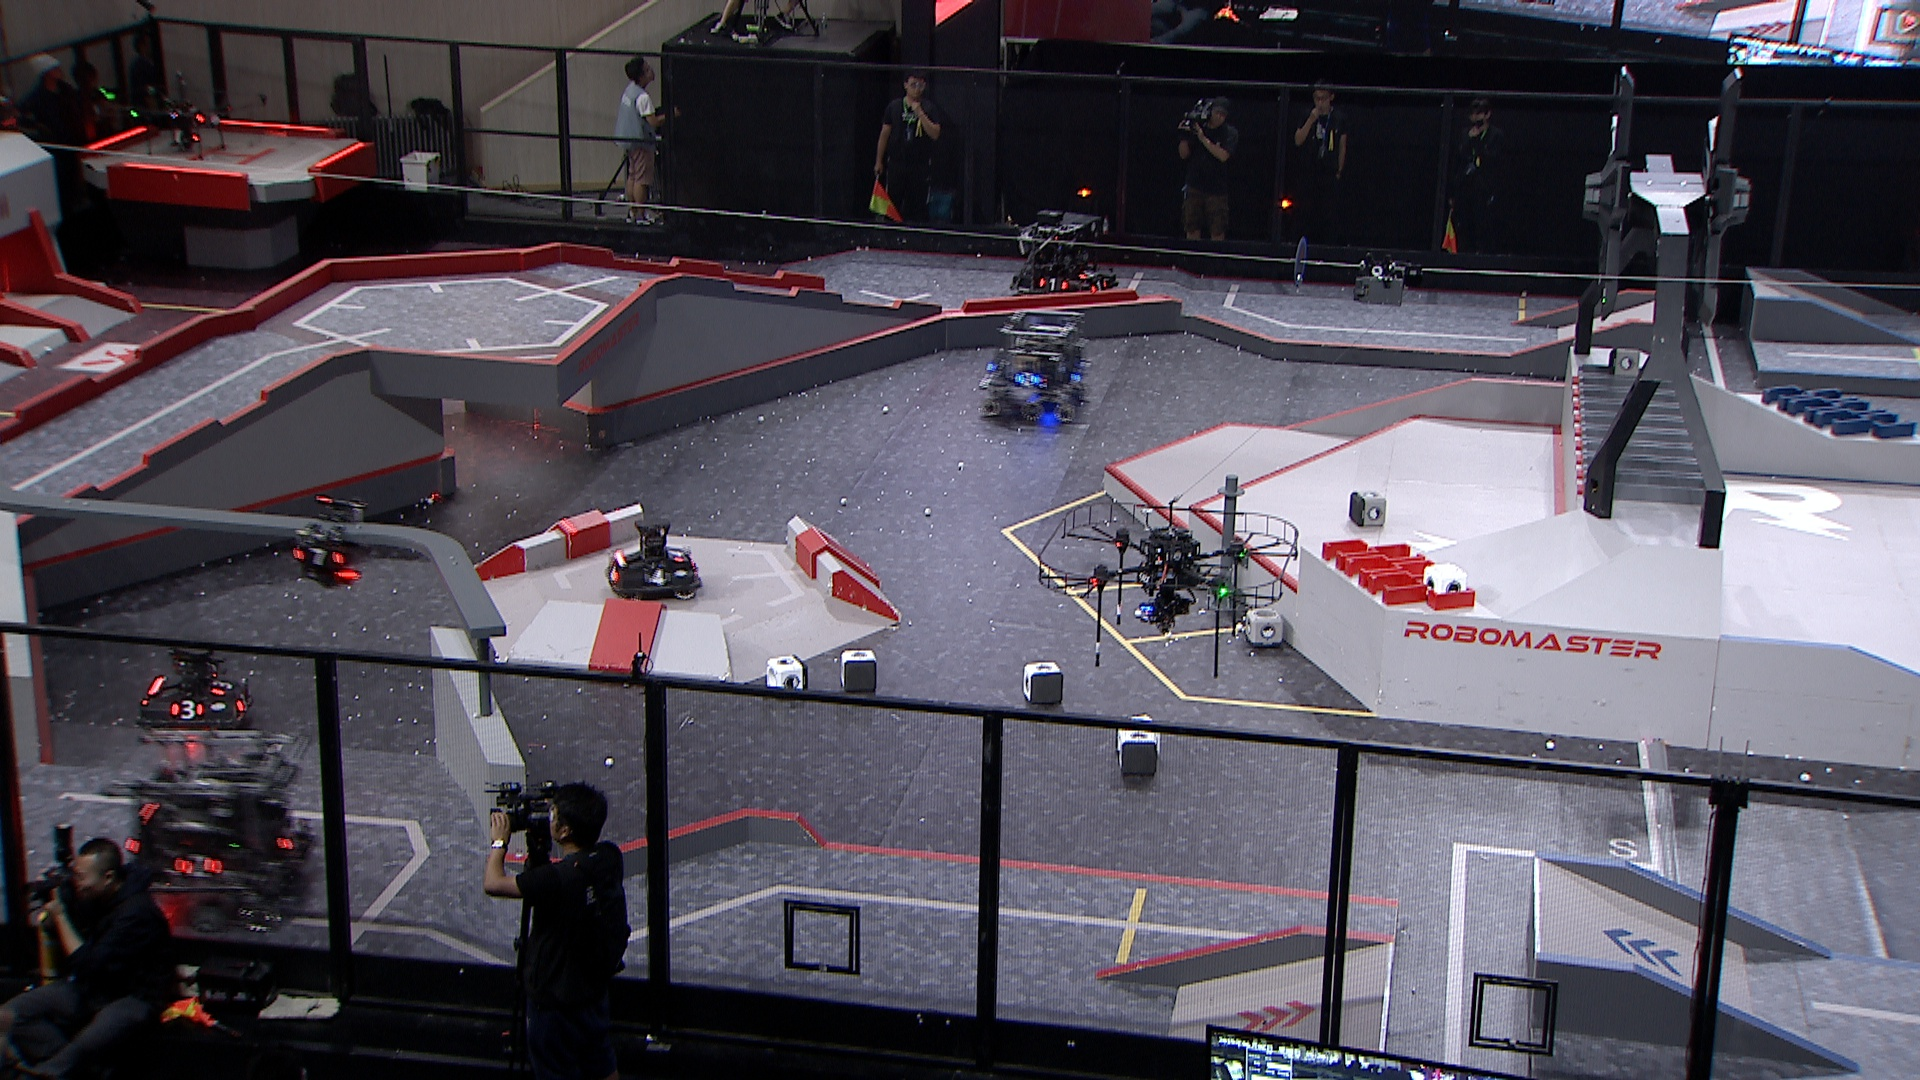armor: (287, 545, 348, 570), (173, 855, 225, 882), (272, 823, 306, 856), (169, 699, 204, 721), (644, 566, 675, 589), (1011, 371, 1039, 389), (665, 545, 688, 566), (1038, 277, 1069, 291), (210, 679, 235, 695), (605, 564, 622, 583), (1091, 280, 1110, 294), (1077, 268, 1098, 280)
car: (109, 732, 315, 931), (977, 306, 1092, 427), (136, 640, 257, 735), (1011, 208, 1120, 301), (604, 517, 703, 599)
watcher: (286, 496, 372, 589)
